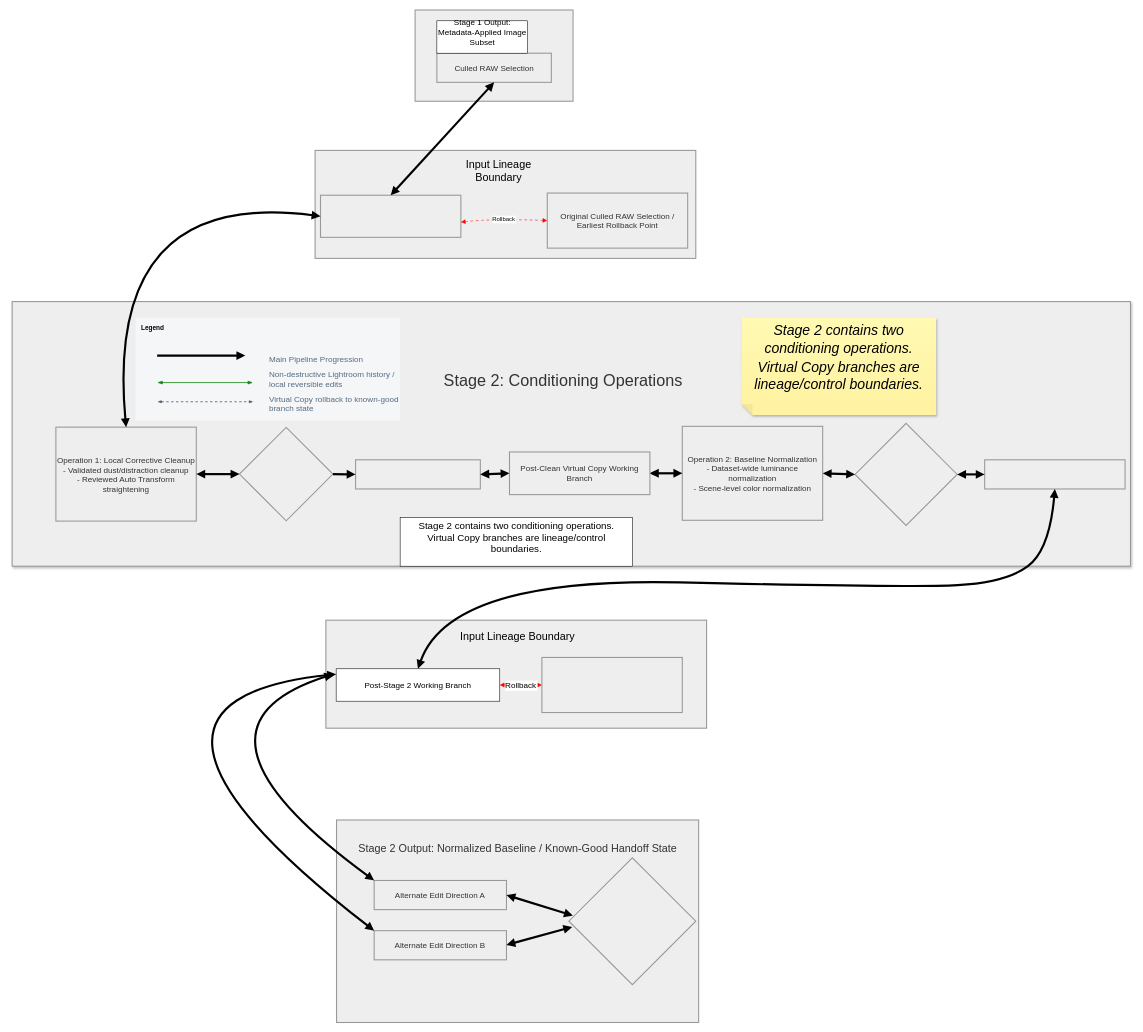
This 1143x1032 diagram has some shape labels left out. Here are the shapes that lost their labels. From the top down, the centre of each, then its label:
At point (390, 216): "Post-Cull Virtual Copy Working Branch".
At point (286, 474): "Operator Review".
At point (418, 474): "Cleaned Baseline Inputs".
At point (905, 474): "Review Checkpoint".
At point (1054, 474): "Normalized Baseline Images".
At point (612, 685): "New Rollback Checkpoint (Post-conditioning) baseline)".
At point (632, 921): "Compare / Keep / Revert".
